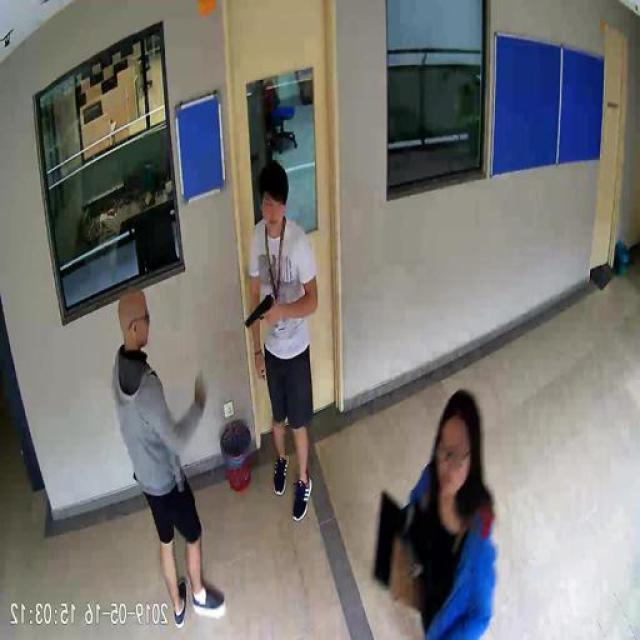weapon: (245, 291, 282, 329)
